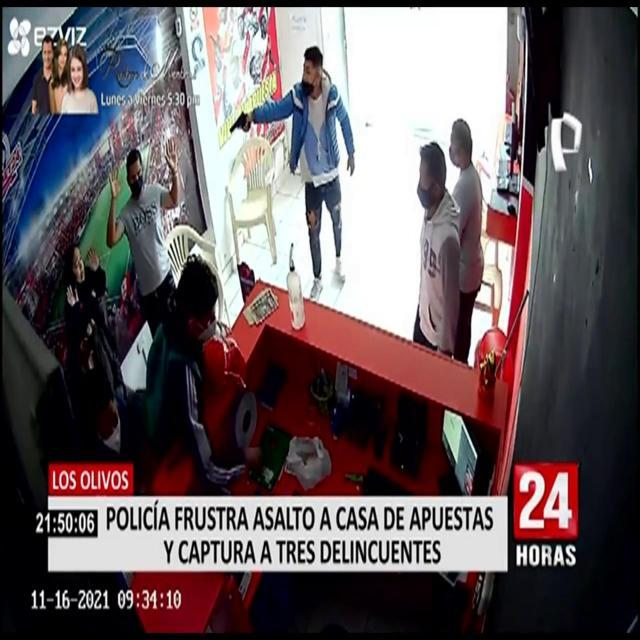weapon: (217, 96, 256, 146)
